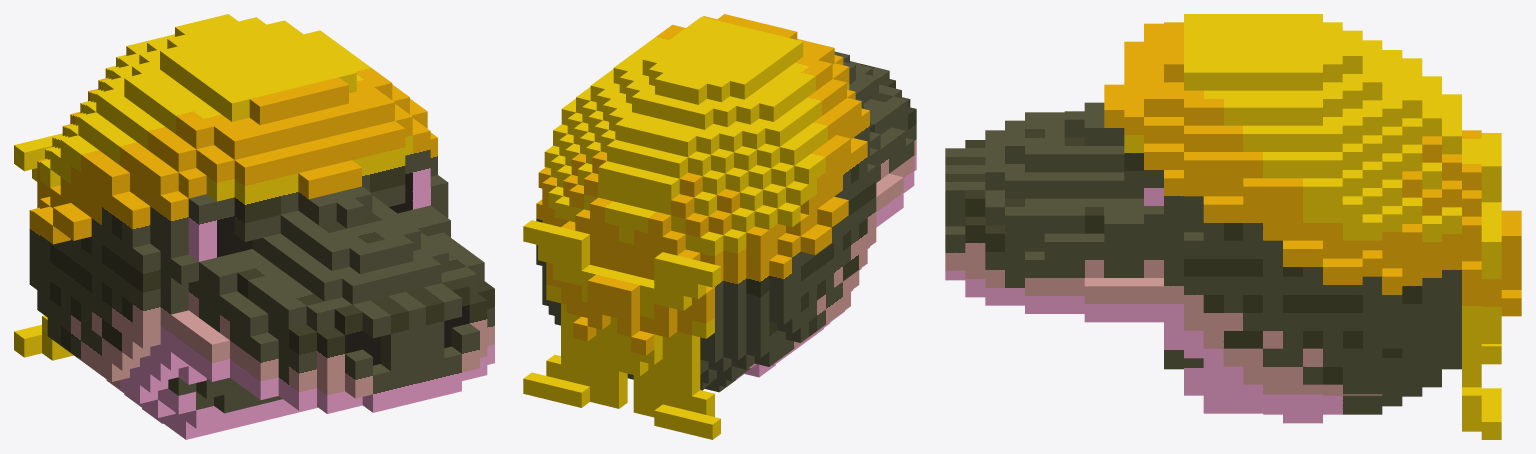
File: yellow durag_lazer light.gltf
The picture shows the model from 3 angles, left to right: view 1: azimuth 30°, elevation 25°; view 2: azimuth 150°, elevation 25°; view 3: azimuth 270°, elevation 25°; orthographic projection. The views are drawn at different scales.
Parts seen in each view (by area): view 1: C17_H_yellDurag_lazer-Mesh; view 2: C17_H_yellDurag_lazer-Mesh; view 3: C17_H_yellDurag_lazer-Mesh.
Part boxes in pixels (box(x1,y1,x2,y2)): C17_H_yellDurag_lazer-Mesh: box(14, 14, 494, 439); C17_H_yellDurag_lazer-Mesh: box(523, 14, 916, 439); C17_H_yellDurag_lazer-Mesh: box(945, 14, 1521, 439).
Size of the model in its own units: 19 by 19 by 29.
Materials: 1 (1 with a texture image).
